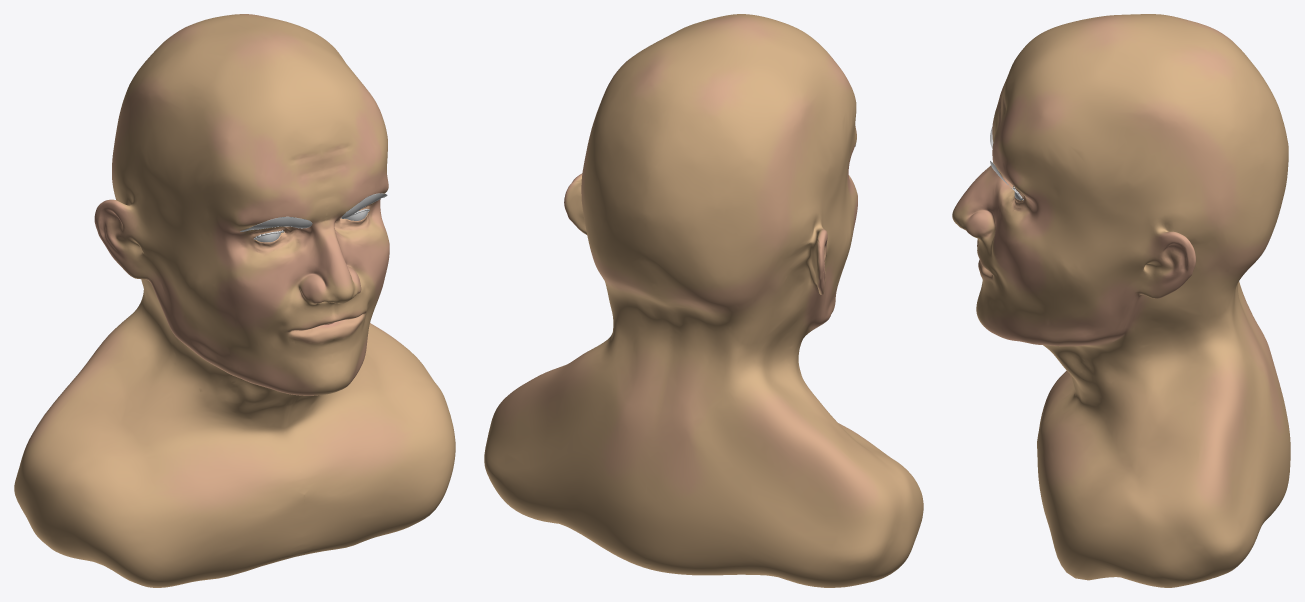
Rendered from HumanHead2.gltf.
The picture shows the model from 3 angles, left to right: view 1: azimuth 30°, elevation 25°; view 2: azimuth 150°, elevation 25°; view 3: azimuth 270°, elevation 25°; orthographic projection. The views are drawn at different scales.
Parts seen in each view (by area): view 1: Head; view 2: Head; view 3: Head.
Part boxes in pixels (x1=…): Head: x1=14, y1=14, x2=455, y2=587; Head: x1=484, y1=14, x2=923, y2=587; Head: x1=952, y1=14, x2=1290, y2=587.
Size of the model in its own units: 3.02 by 3.66 by 2.25.
